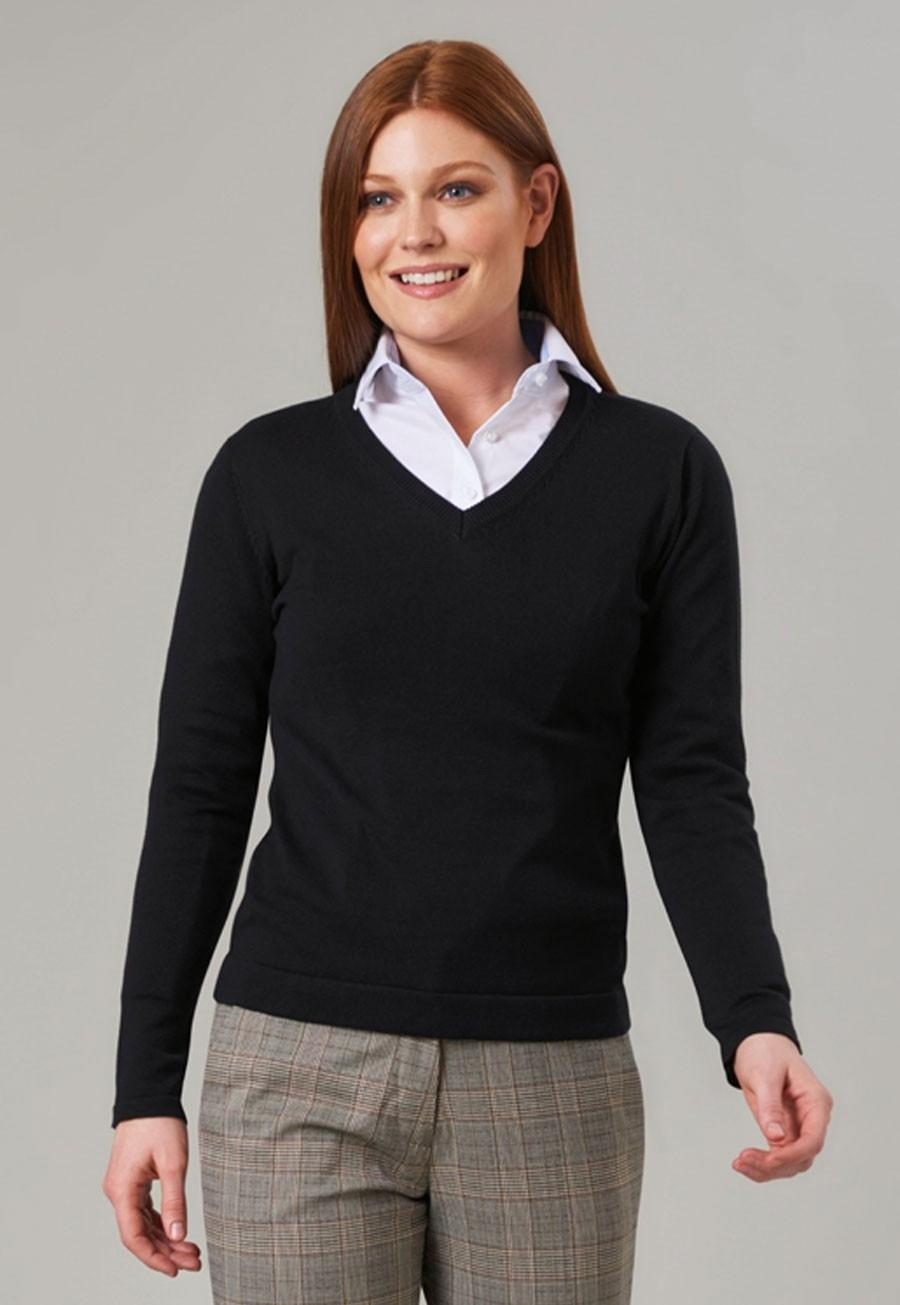sweater: (109, 385, 809, 1131)
trousers: (190, 992, 651, 1305)
